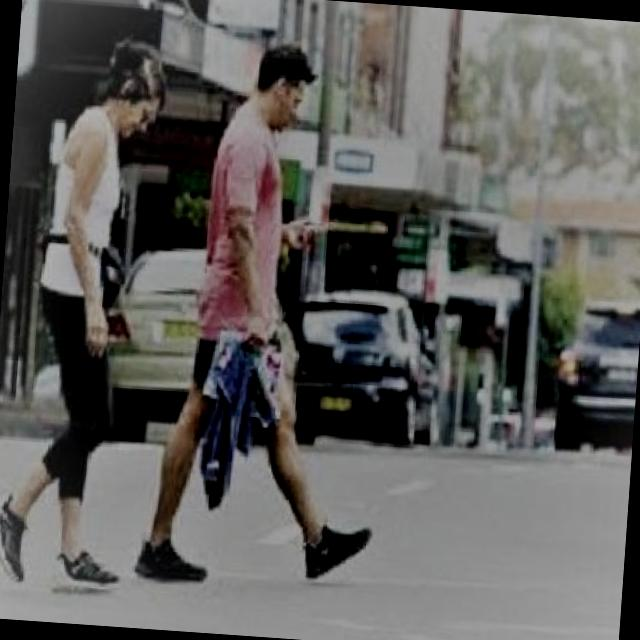Person: (128, 33, 404, 610), (0, 24, 167, 604)
